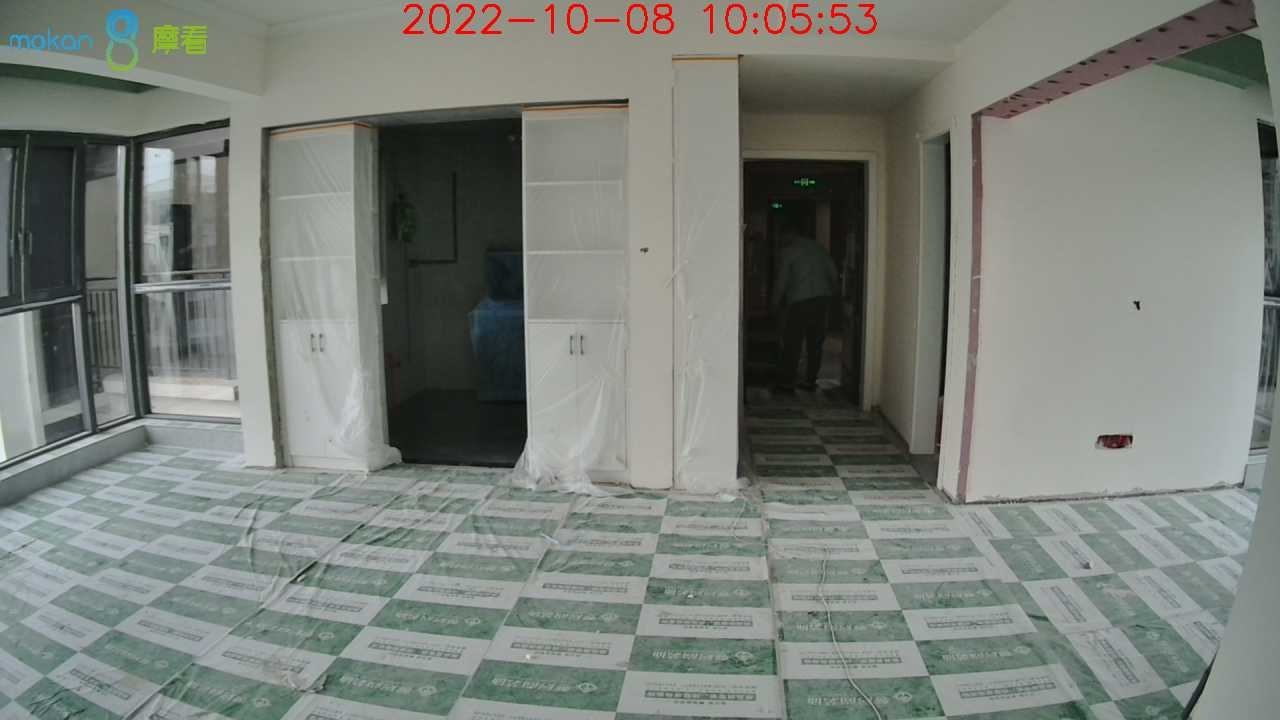people: (772, 226, 836, 395)
window: (3, 133, 243, 427)
